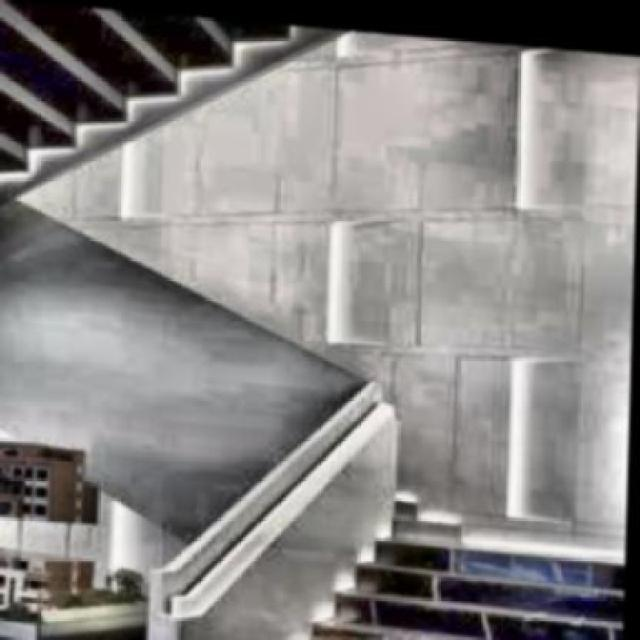stair: (332, 508, 626, 638)
